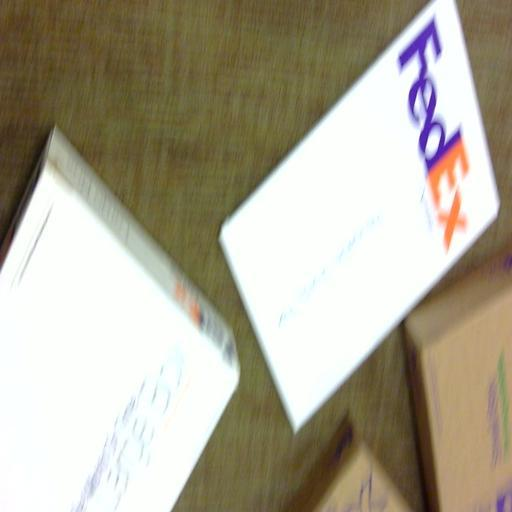Amazon: (219, 0, 497, 399)
